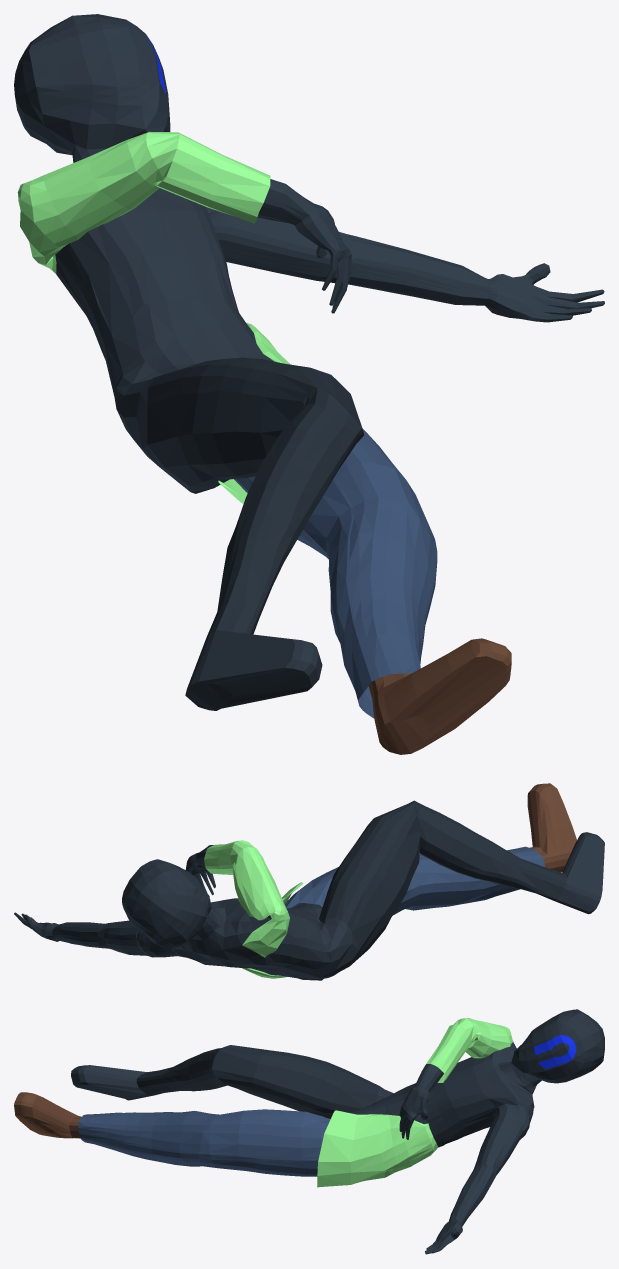
The model's file is Mar_Die_000014.obj.
3 views of the same model, one above another, from view 1: azimuth 30°, elevation 25°; view 2: azimuth 150°, elevation 25°; view 3: azimuth 270°, elevation 25° (orthographic). The views are drawn at different scales.
Parts seen in each view (by area): view 1: Cube.000_Cube.001; view 2: Cube.000_Cube.001; view 3: Cube.000_Cube.001.
Part boxes in pixels (x1,y1,x2,y2): Cube.000_Cube.001: [14, 14, 604, 754]; Cube.000_Cube.001: [14, 783, 604, 980]; Cube.000_Cube.001: [14, 1009, 604, 1254].
Size of the model in its own units: 2.69 by 1.2 by 3.74.
